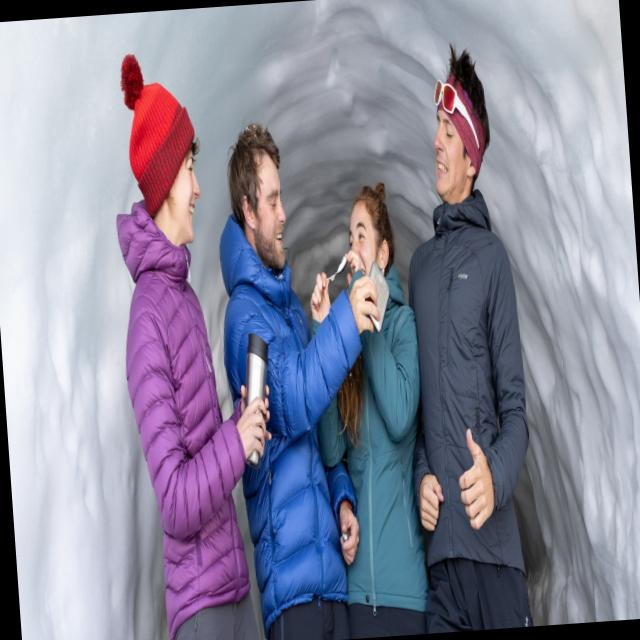Jacket: (200, 202, 366, 621), (102, 215, 262, 613), (387, 176, 545, 570), (314, 240, 440, 634)
